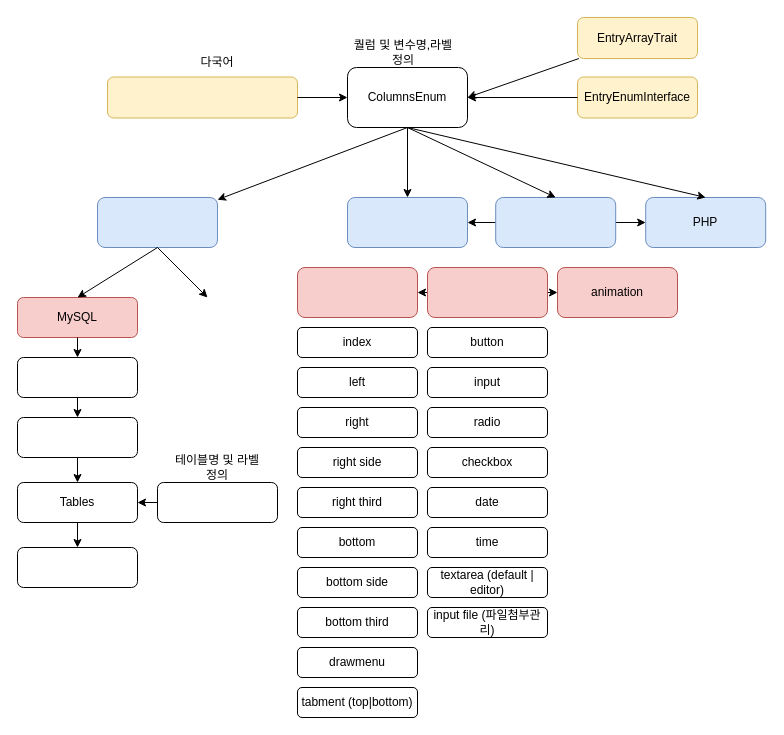
This 784x735 diagram has some shape labels left out. The shapes that lost their labels are listed below. From the top down, each one's box as (x1, y1, x2, y2) in pixels, then its label:
(106, 76, 298, 118): resources /res/config/components.json
(96, 196, 218, 248): 스키마
(346, 196, 468, 248): HTML/CSS
(495, 196, 616, 248): Javascript
(296, 266, 418, 318): Layout
(426, 266, 548, 318): Widget
(16, 356, 138, 398): (ColumnsEnum) SchemaType
(16, 416, 138, 458): (ColumnsEnum) Schema
(156, 482, 278, 522): TablesEnum
(16, 546, 138, 588): TablesMap
